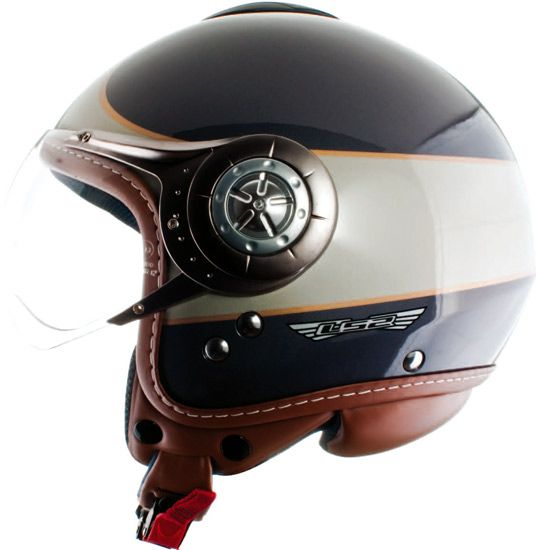with_helmet: (16, 2, 532, 446)
